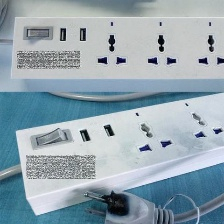three_eye_plug: (10, 91, 224, 219), (5, 11, 224, 93)
